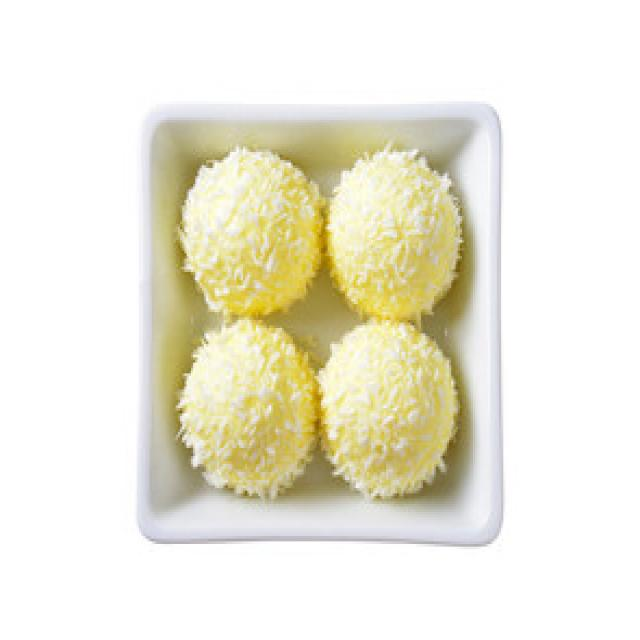Chocolate: (181, 154, 466, 511)
